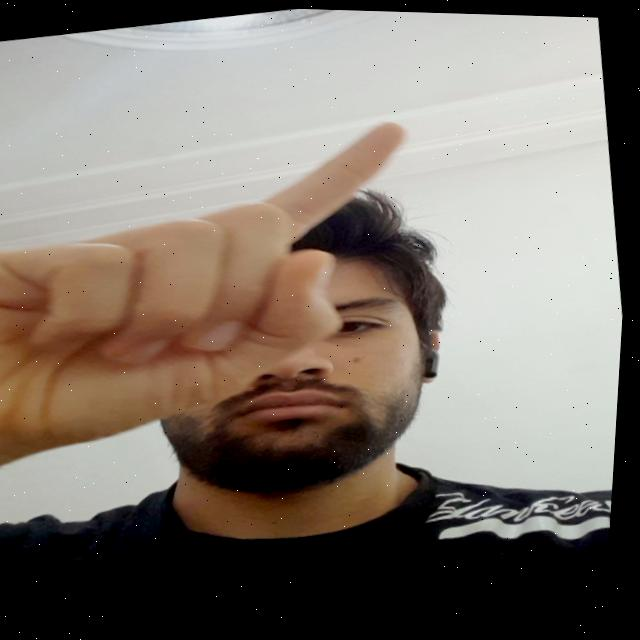Head: (118, 169, 481, 517)
One: (0, 105, 461, 486)
